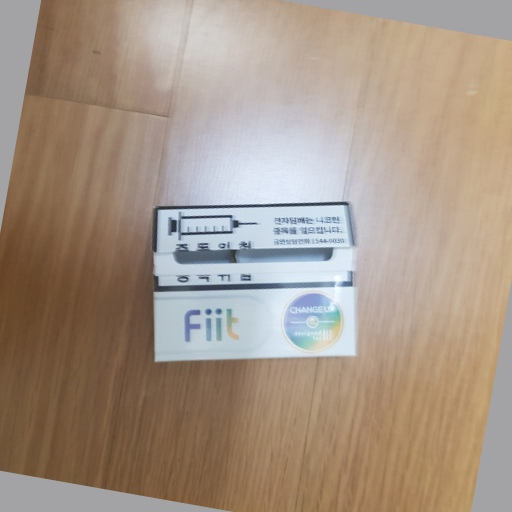Paper_0: (140, 200, 364, 369)
